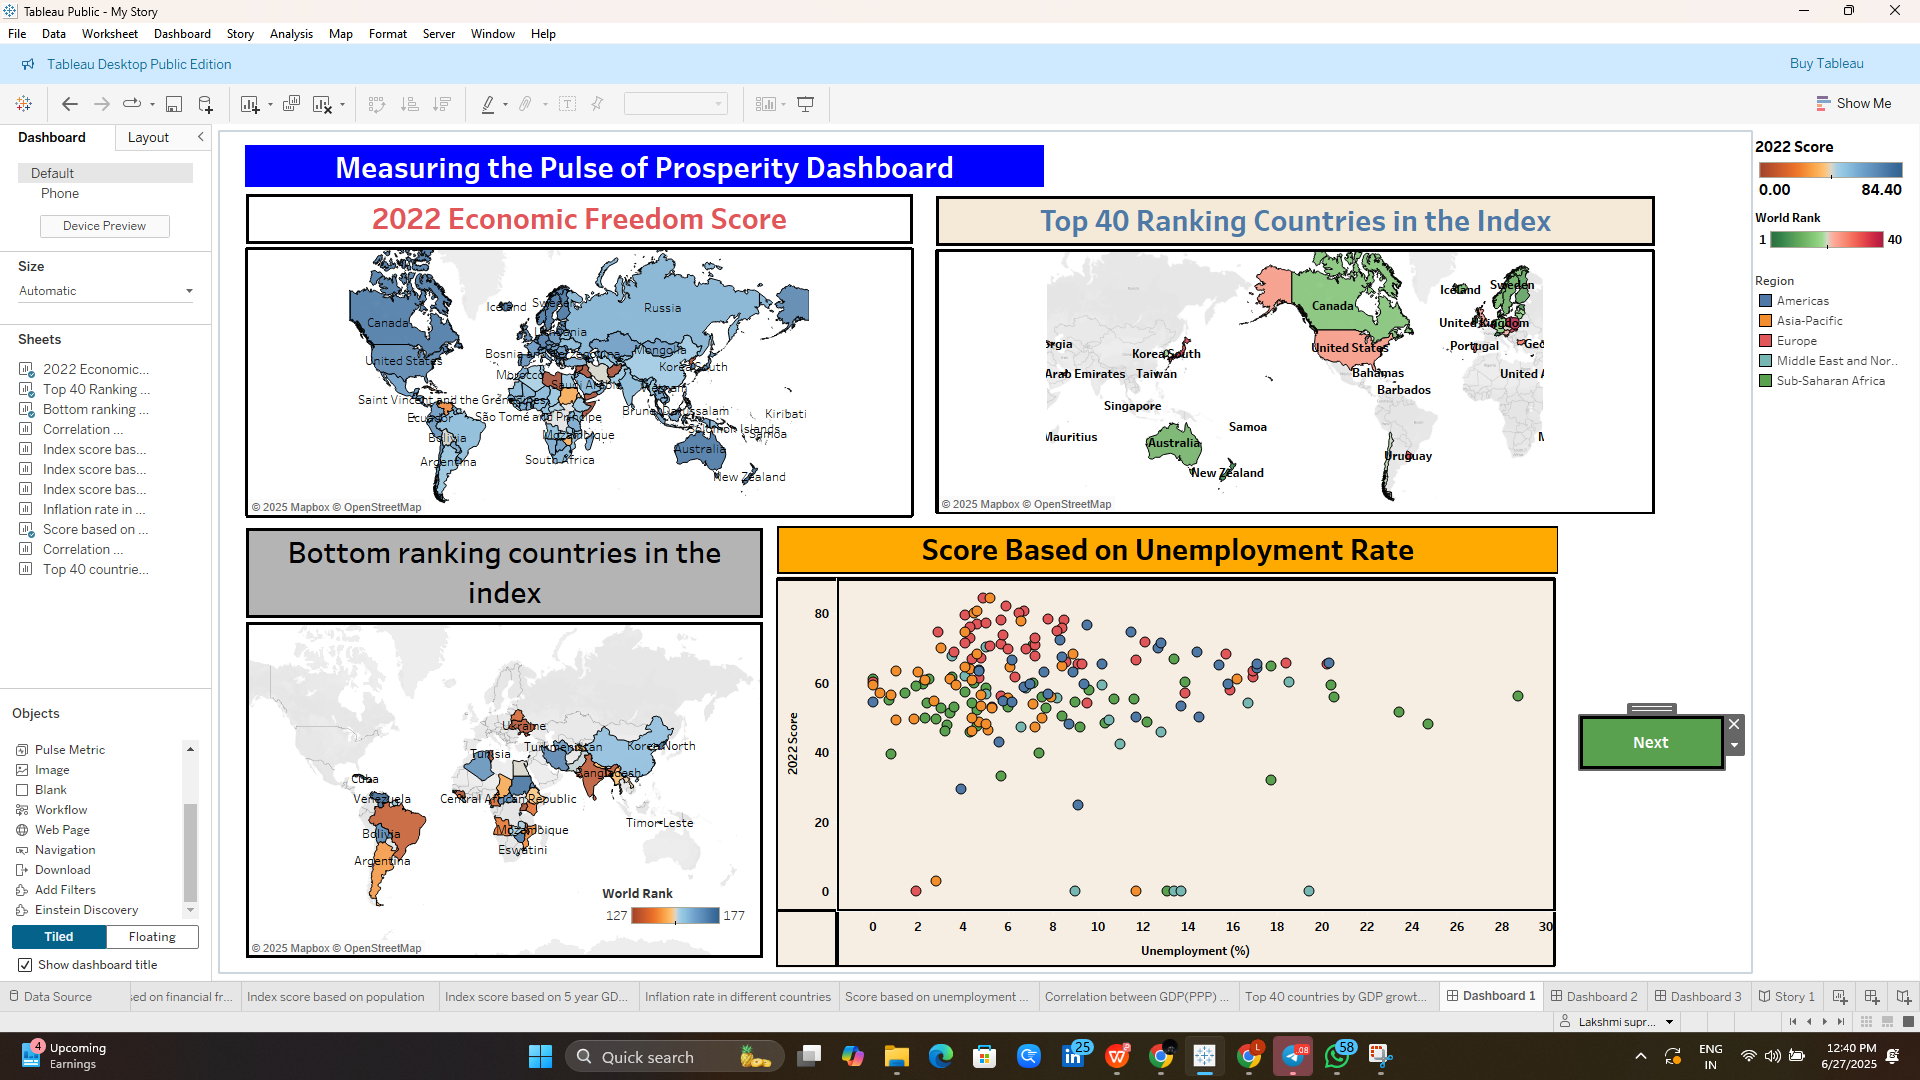

This screenshot's page, from the dashboard's own definition file:
{"tool":"tableau","page":{"name":"Dashboard 1","canvas":[1000,1000],"units":"permille","ordinal":0},"visuals":[{"type":"legend","title":"2022 Economic freedom score","param":"[federated.0w3zbzs02l5cmz1c80fon0o09ncx].[sum:2022 Score:qk]","box":[901.6,9.3,93.7,85.3]},{"type":"title","box":[19.3,24.5,468.1,49.1]},{"type":"worksheet","title":"2022 Economic freedom score","mark":"Automatic","box":[19.3,81.8,391.9,378.5]},{"type":"worksheet","title":"Top 40 Ranking countries in the index","mark":"Automatic","box":[423.6,84.1,422.4,372.7]},{"type":"legend","title":"Top 40 Ranking countries in the index","param":"[federated.0w3zbzs02l5cmz1c80fon0o09ncx].[sum:World Rank:qk]","box":[901.6,94.6,93.7,73.6]},{"type":"legend","title":"Score based on unemployment rate","param":"[federated.0w3zbzs02l5cmz1c80fon0o09ncx].[none:Region:nk]","box":[901.6,168.2,93.7,147.2]},{"type":"worksheet","title":"Score based on unemployment rate","mark":"Circle","rows":["2022 Score"],"cols":["Unemployment (%)"],"box":[330.4,469.6,458.1,516.4]},{"type":"worksheet","title":"Bottom ranking countries in the index","mark":"Automatic","box":[19.3,472,304,503.5]},{"type":"dashboard-object","box":[801.4,691.6,84.4,61.9]},{"type":"legend","title":"Bottom ranking countries in the index","param":"[federated.0w3zbzs02l5cmz1c80fon0o09ncx].[sum:World Rank:qk]","box":[228.5,887.9,86.7,71.3]}]}

Visuals, with their boxes on the dashboard's canvas, which has no fixed pixel size, in thousandths of its width and height (x1, y1, x2, y2). These are canvas units, not pixel positions in the 1920x1080 screenshot, which may show the page scaled, cropped or inside an application window:
"2022 Economic freedom score" legend: 902 9 995 95
title: 19 24 487 74
"2022 Economic freedom score" worksheet: 19 82 411 460
"Top 40 Ranking countries in the index" worksheet: 424 84 846 457
"Top 40 Ranking countries in the index" legend: 902 95 995 168
"Score based on unemployment rate" legend: 902 168 995 315
"Score based on unemployment rate" worksheet (Circle marks): 330 470 788 986
"Bottom ranking countries in the index" worksheet: 19 472 323 976
dashboard-object: 801 692 886 754
"Bottom ranking countries in the index" legend: 228 888 315 959
